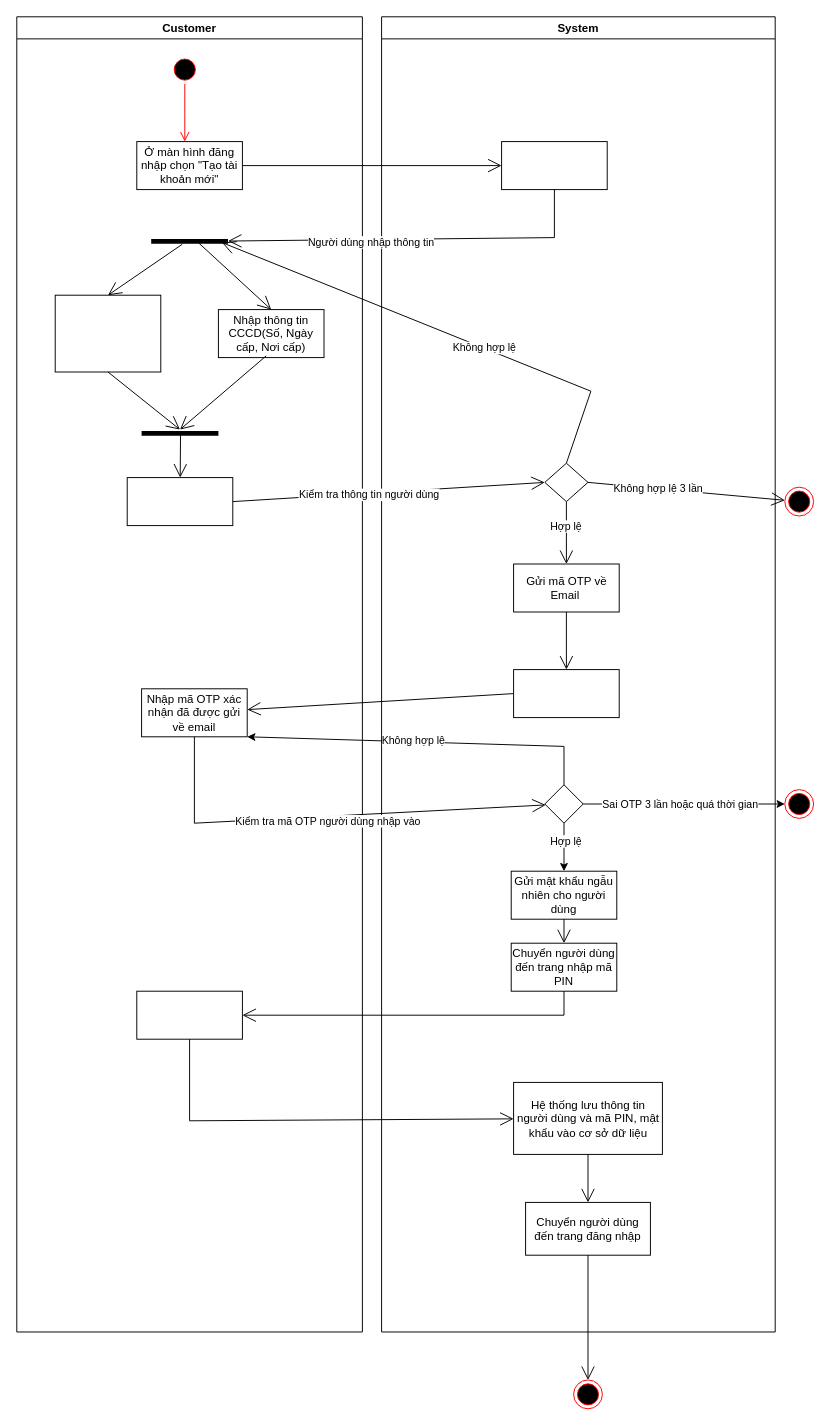
Some shapes in this 830 by 1426 pixel diagram are drawn without their labels. The centre of each missing label's shape, as x and y in pixels:
Chuyển người dùng đến trang nhập OTP: point 566,693
Hệ thống đưa người dùng tới giao diện tạo tài khoản: point 554,165
Người dùng nhập mã PIN: point 189,1014
Nhập thông tin cá nhân(họ tên, ngày sinh, số điện thoại, email): point 107,333
Xác nhận tạo tài khoản: point 179,501
